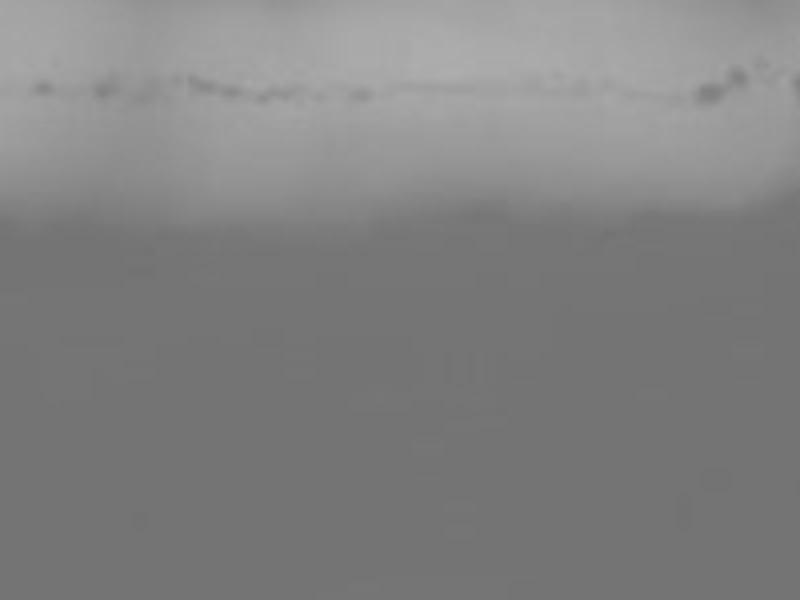defect: (252, 79, 306, 105), (127, 72, 164, 104), (187, 73, 222, 98), (90, 71, 117, 101), (696, 84, 725, 107), (343, 85, 377, 104), (746, 54, 775, 75), (570, 78, 594, 102), (725, 65, 747, 89), (33, 79, 53, 99), (220, 85, 244, 97)
